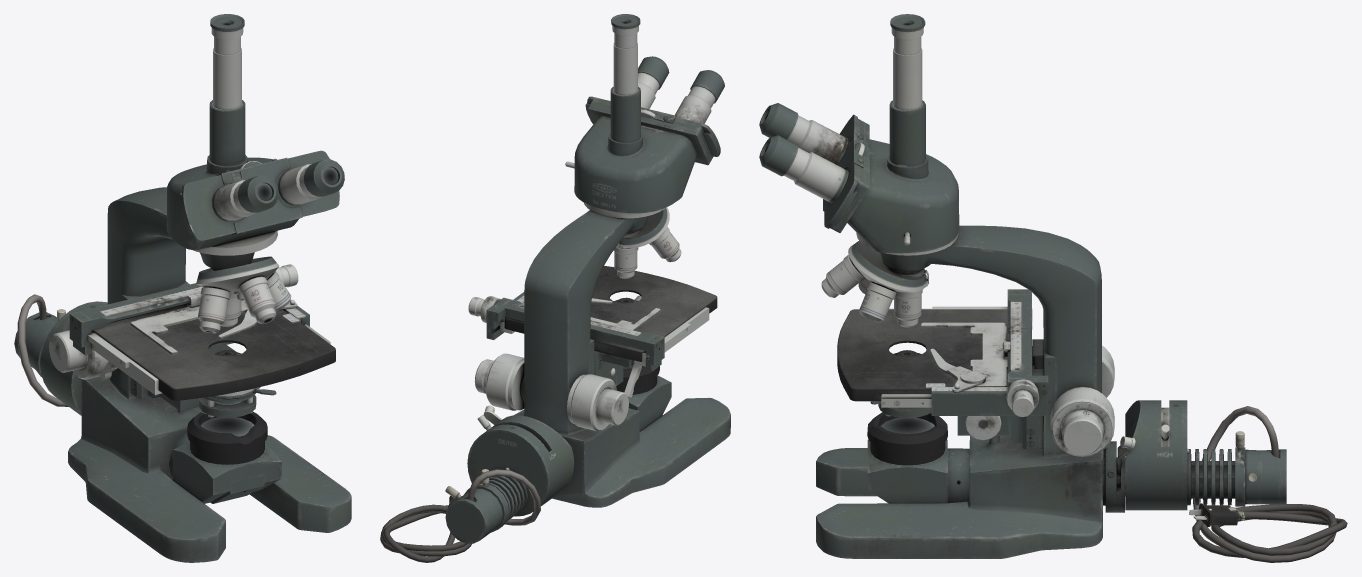
3 renders of one model, left to right at view 1: azimuth 30°, elevation 25°; view 2: azimuth 150°, elevation 25°; view 3: azimuth 270°, elevation 25°, orthographic. The views are drawn at different scales.
Parts seen in each view (by area): view 1: industrial_microscope, industrial_microscope_cable; view 2: industrial_microscope, industrial_microscope_cable; view 3: industrial_microscope, industrial_microscope_cable.
Part boxes in pixels (x1,y1,x2,y2): industrial_microscope: [14, 14, 351, 562]; industrial_microscope_cable: [17, 294, 68, 406]; industrial_microscope: [445, 14, 730, 543]; industrial_microscope_cable: [380, 469, 540, 562]; industrial_microscope: [759, 14, 1286, 558]; industrial_microscope_cable: [1189, 406, 1347, 562].
Bounding box in the file's own units: 0.2145 × 0.4617 × 0.4981.
Materials: 1 (1 with a texture image).
